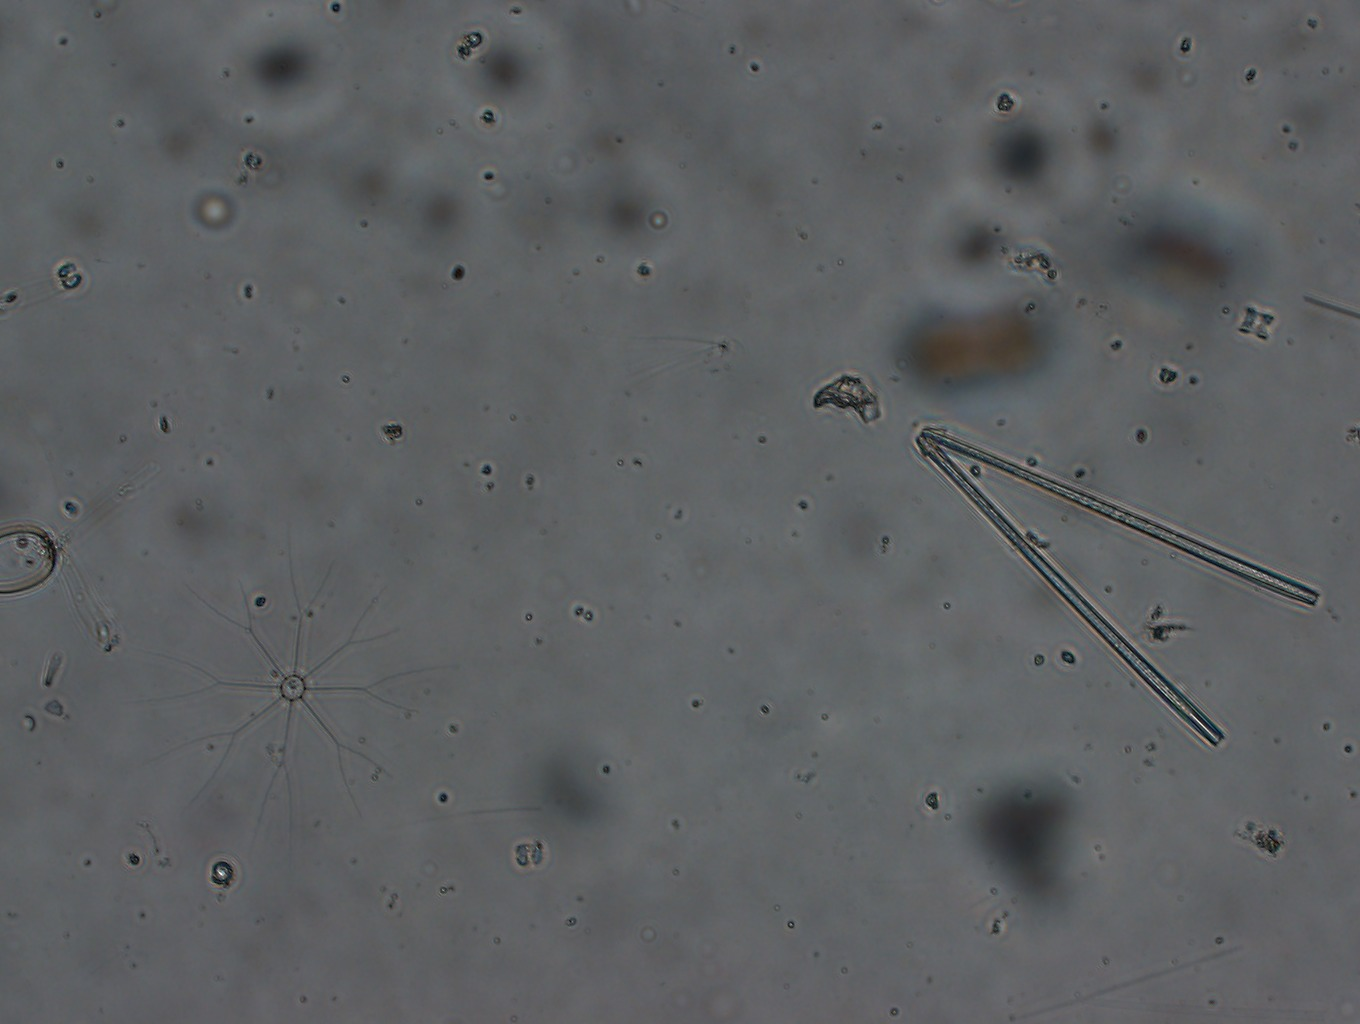bacteriastrum: (196, 591, 449, 806)
thalassionema frauenfeldii: (901, 422, 1325, 755)
